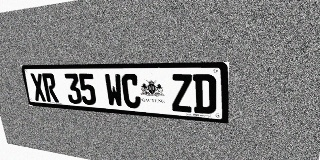3: (64, 73, 82, 104)
5: (78, 73, 97, 105)
C: (121, 74, 141, 109)
D: (193, 74, 216, 114)
R: (42, 73, 59, 103)
W: (104, 74, 124, 107)
X: (30, 73, 47, 102)
Z: (170, 74, 193, 113)
